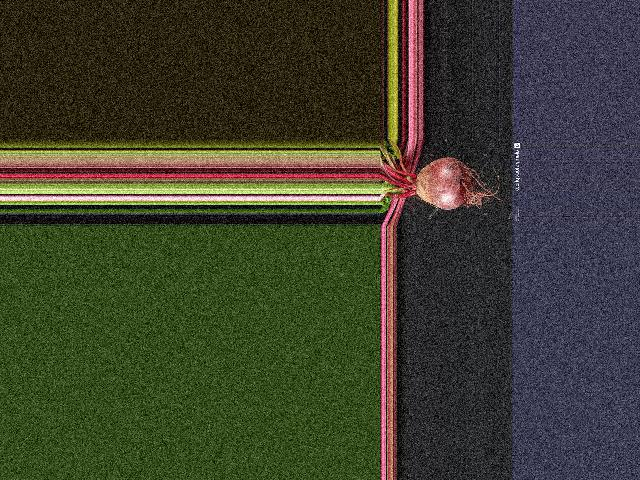beet: (380, 139, 505, 210)
